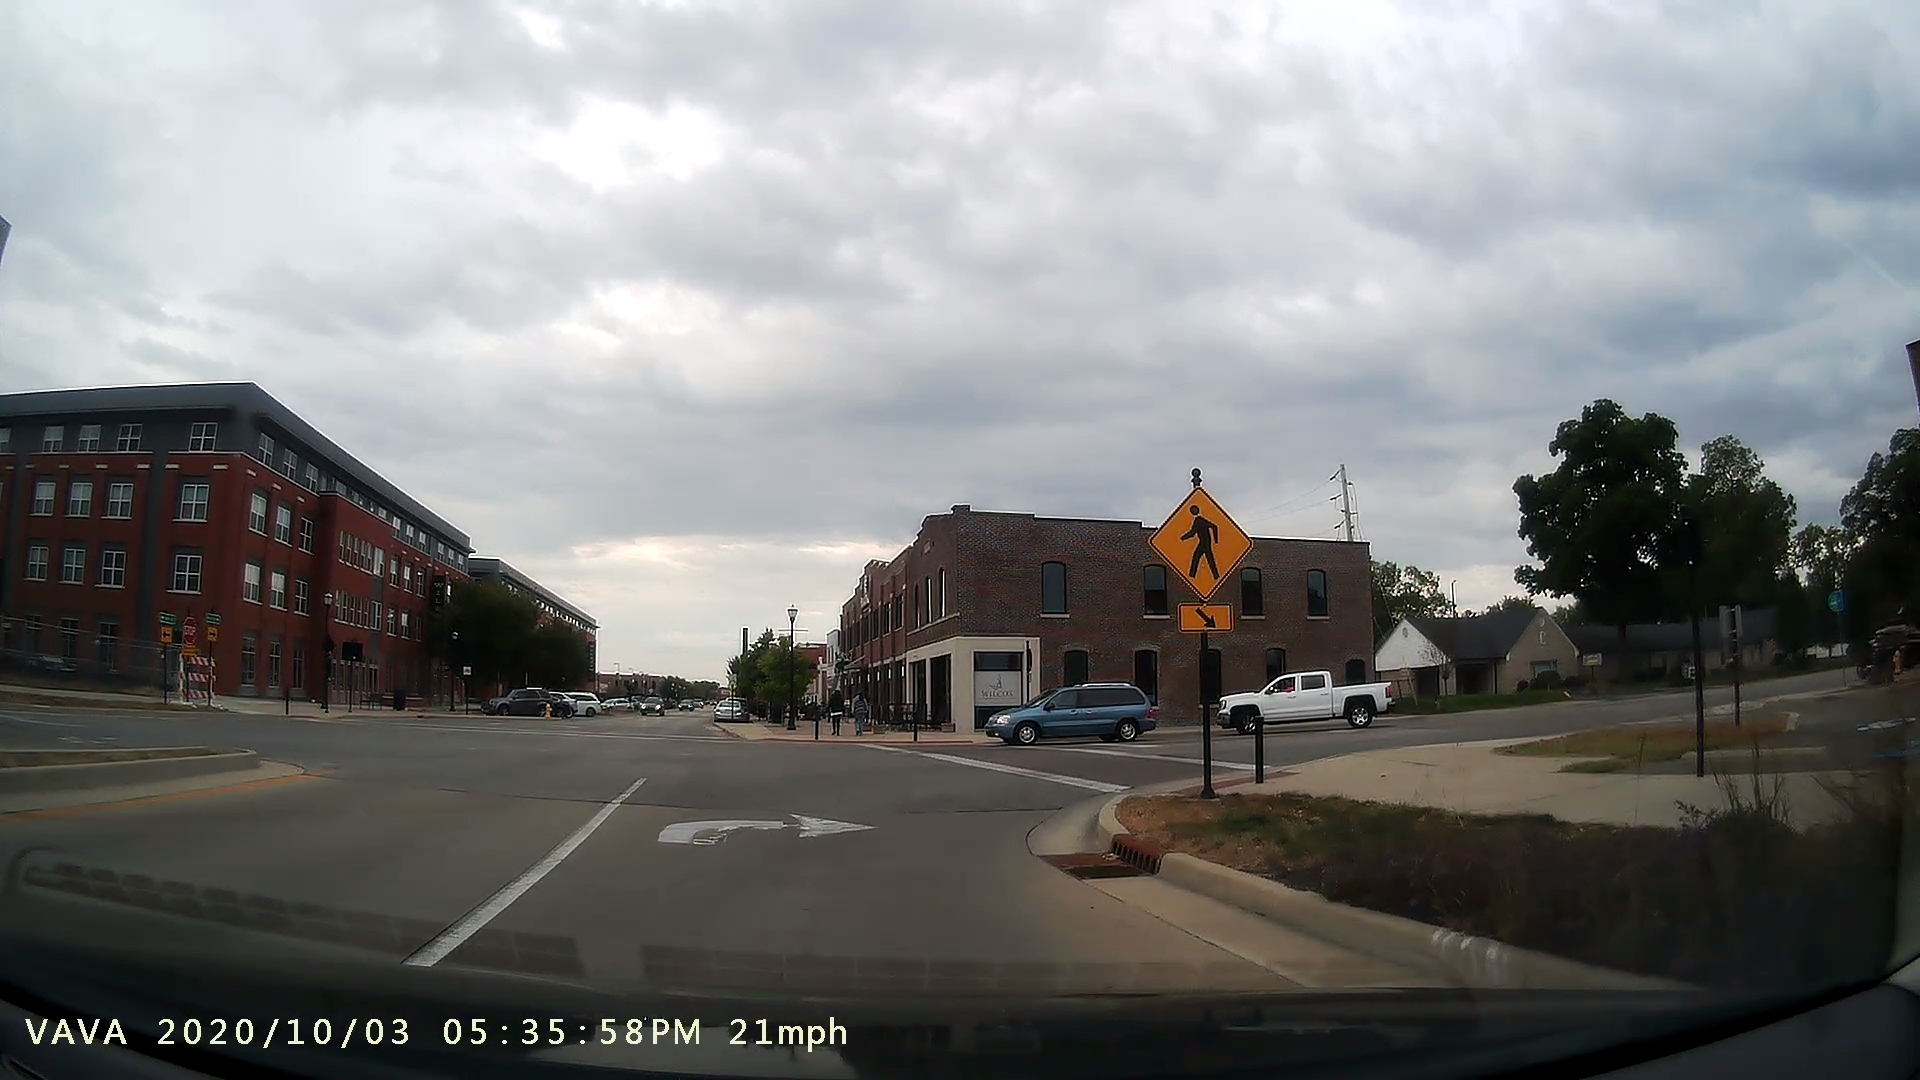right_turn: (645, 786, 895, 885)
